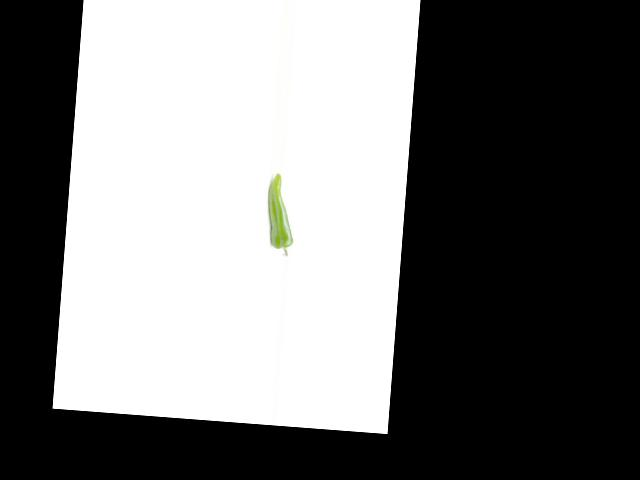bell_pepper: (261, 172, 299, 259)
